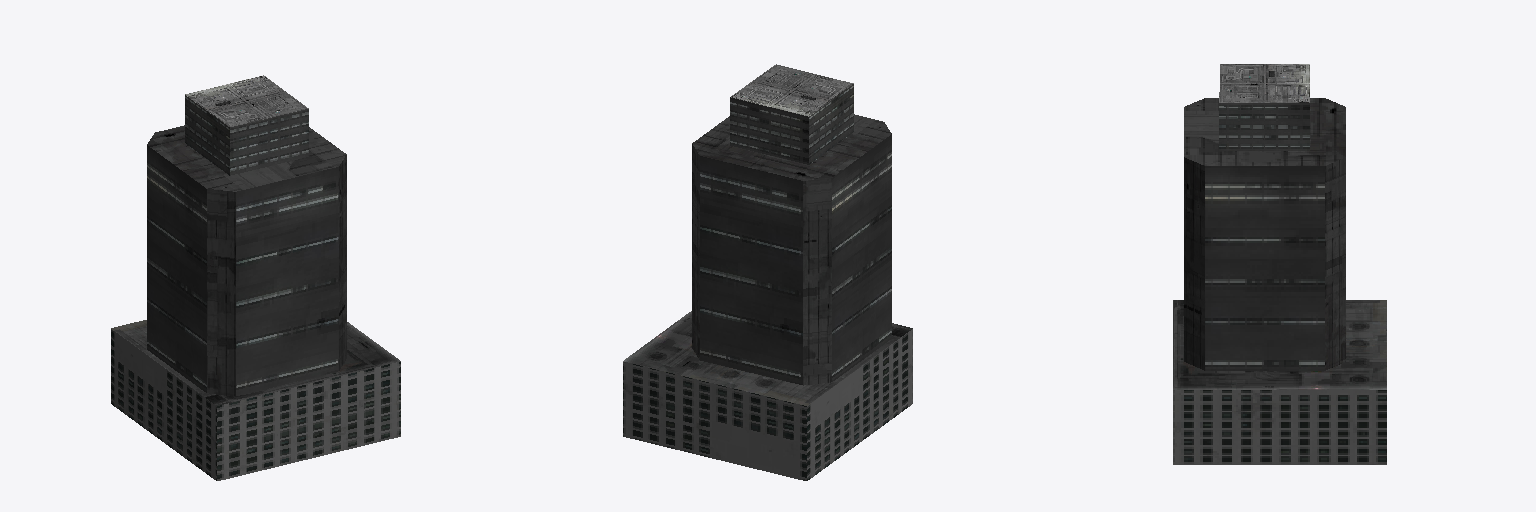
The picture shows the model from 3 angles: view 1: azimuth 30°, elevation 25°; view 2: azimuth 150°, elevation 25°; view 3: azimuth 270°, elevation 25°; orthographic projection.
Visible parts, largest first — view 1: building_36; view 2: building_36; view 3: building_36.
Boxes of the visible parts, x1=… form: building_36: x1=111, y1=75, x2=400, y2=480; building_36: x1=623, y1=64, x2=912, y2=480; building_36: x1=1173, y1=64, x2=1386, y2=464.
Size of the model in its own units: 73.58 by 125 by 73.58.
Materials: 1 (1 with a texture image).